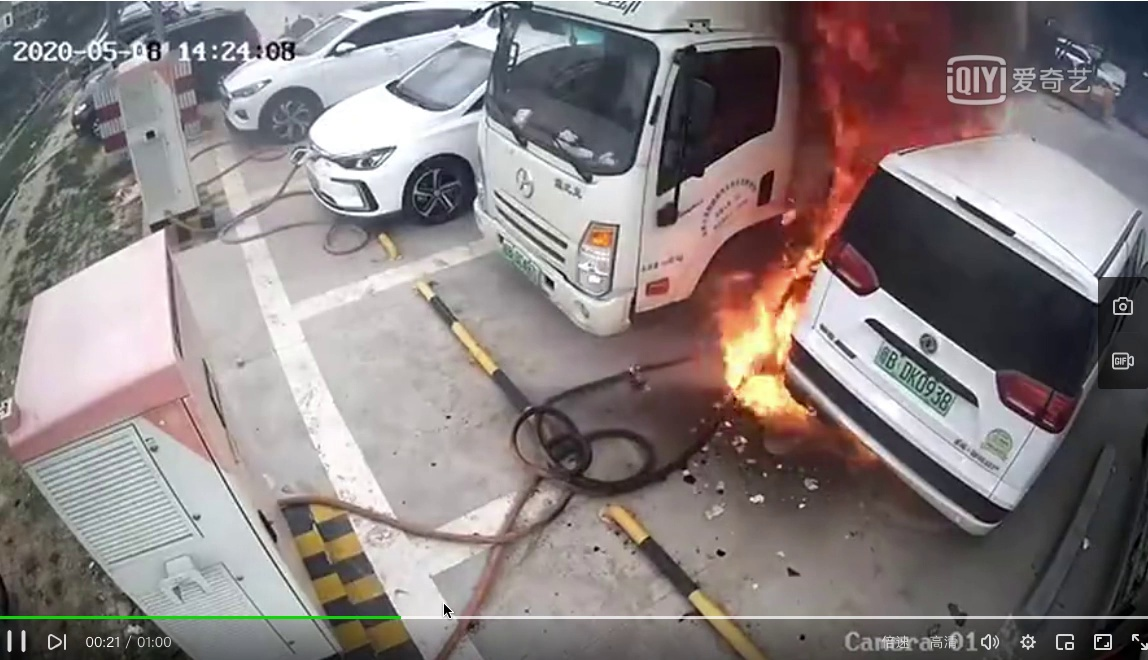fire: (791, 9, 966, 163), (715, 243, 816, 433)
